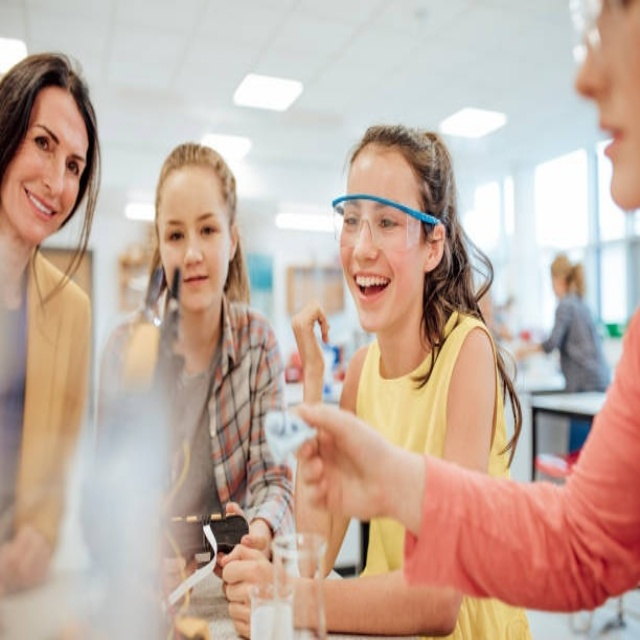Gafas: (330, 191, 438, 254)
Sin_gafas: (29, 116, 83, 179), (159, 209, 231, 253)
Sin_guantes: (294, 395, 394, 529), (220, 530, 280, 629), (285, 300, 337, 373)
Sin_mascara: (589, 93, 636, 213), (346, 262, 397, 323), (24, 184, 64, 240), (180, 264, 212, 304)
